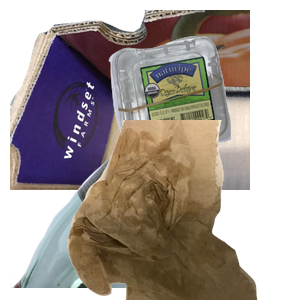cardboard: (10, 10, 250, 190)
glass: (10, 120, 224, 300)
plastic: (106, 34, 300, 183)
trash: (65, 120, 300, 300)
